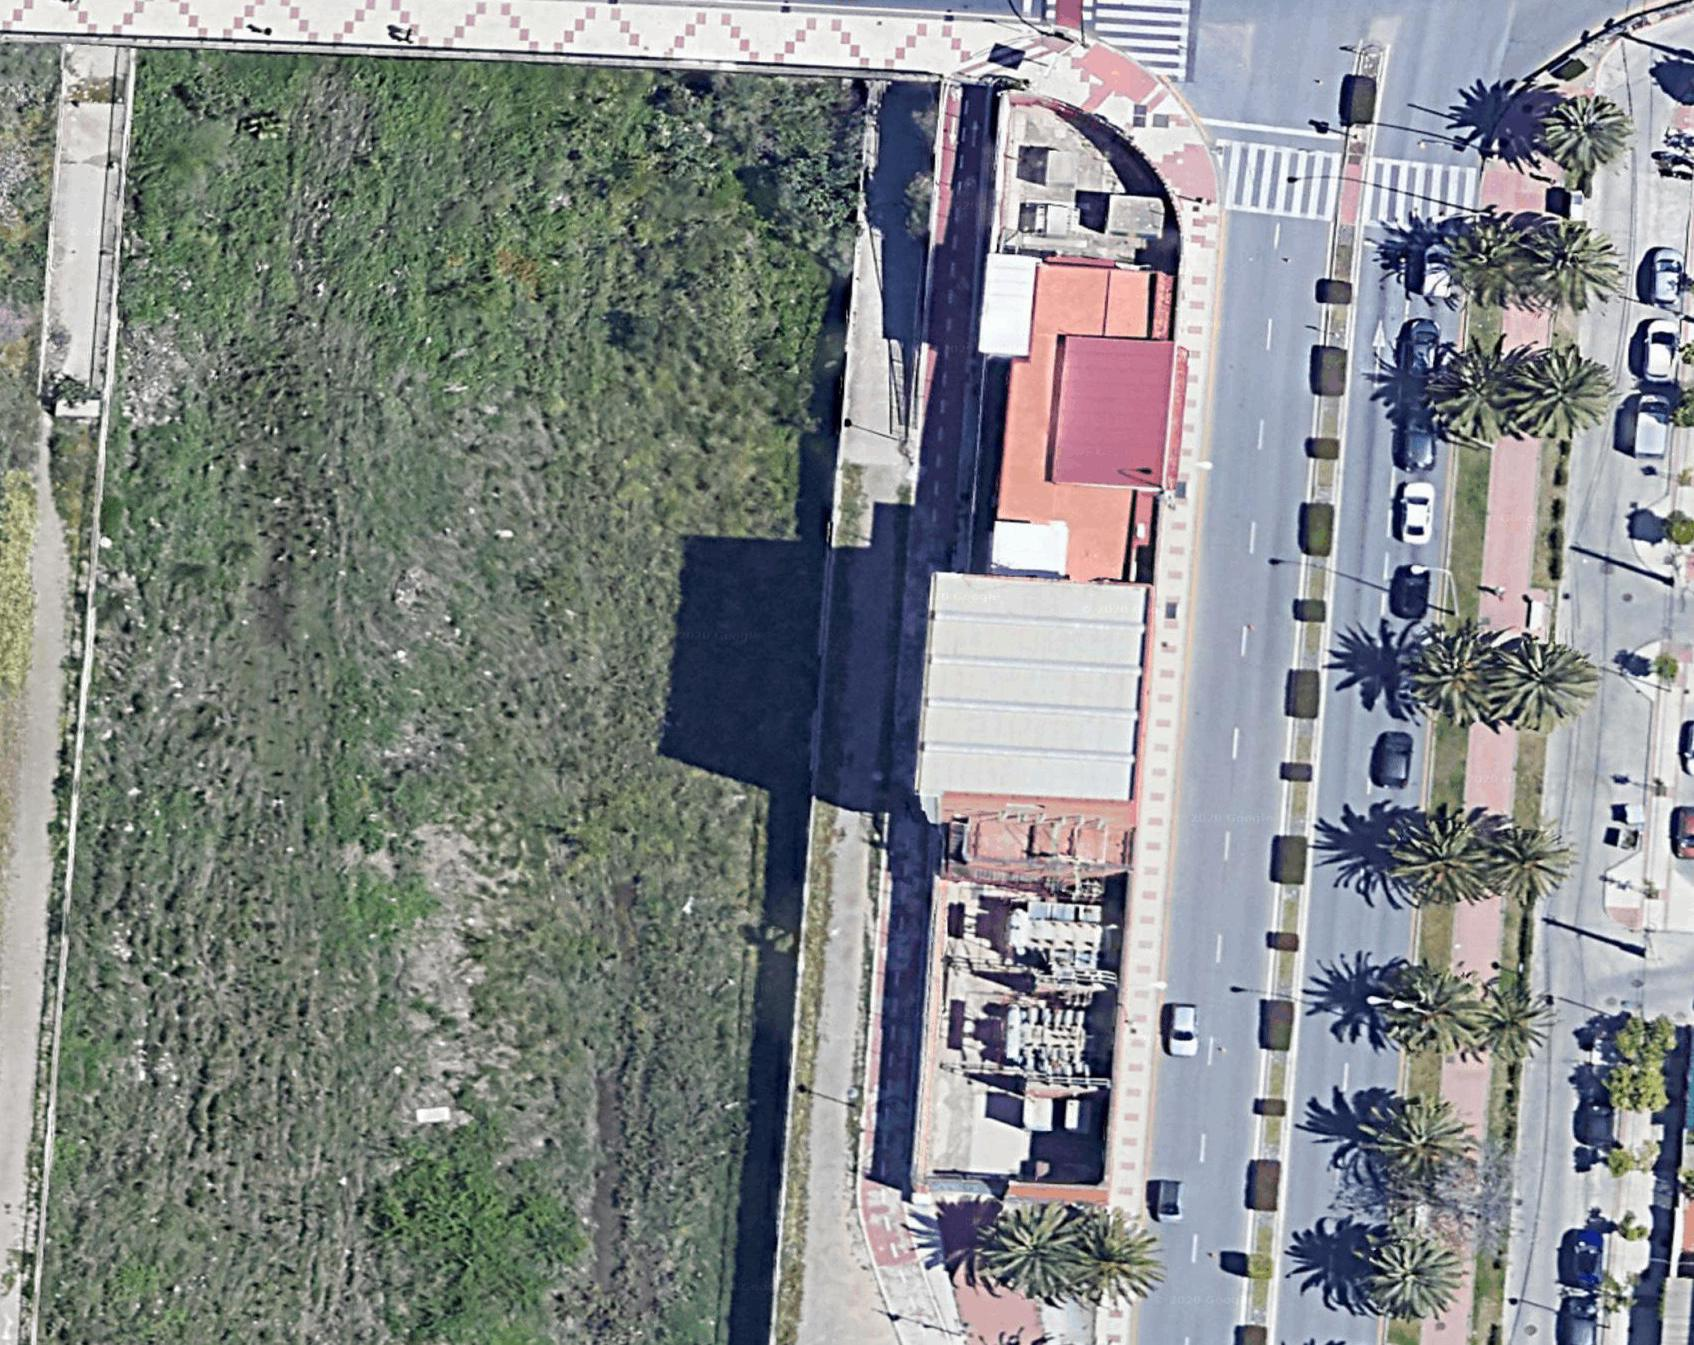substation: (934, 798, 1127, 1143)
